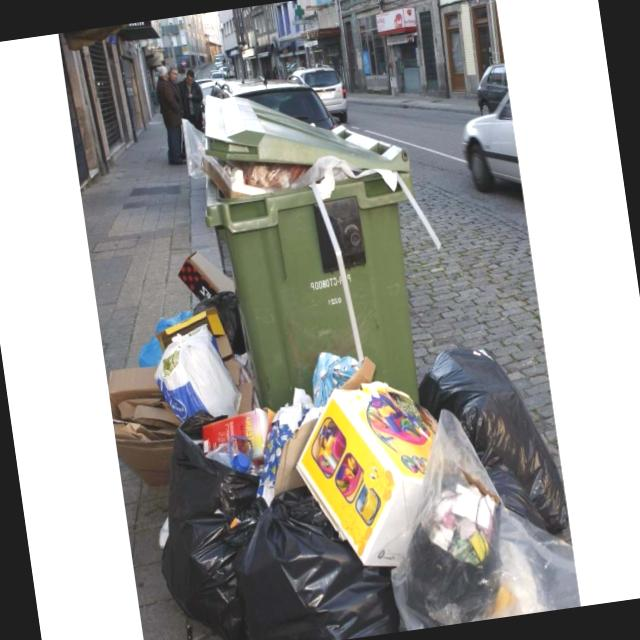garbage: (60, 83, 594, 640)
